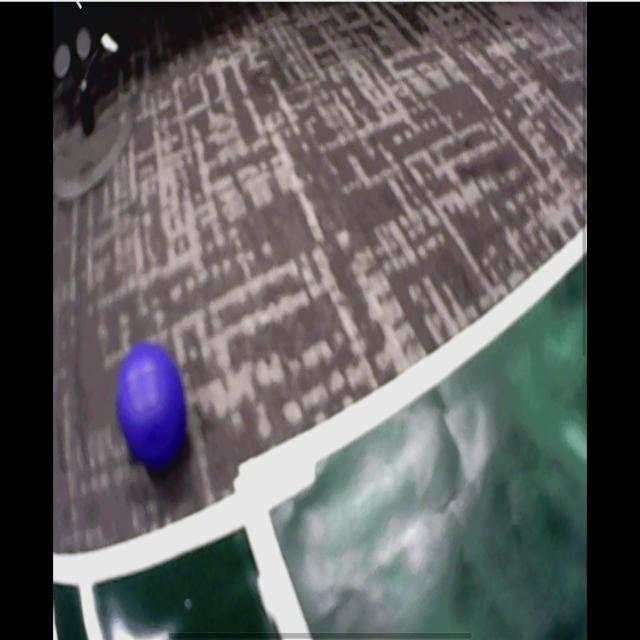ball: (117, 344, 188, 467)
